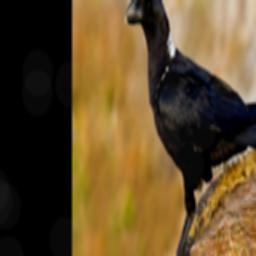Crow: (123, 0, 256, 256)
